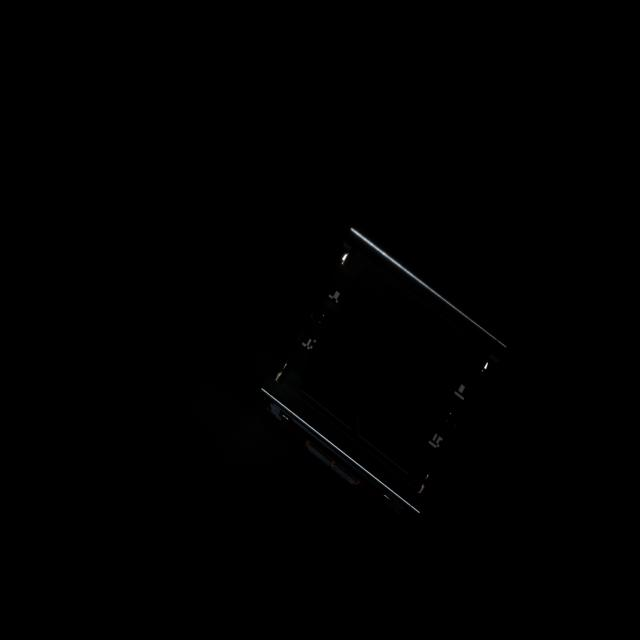medium_debris: (265, 218, 518, 516)
